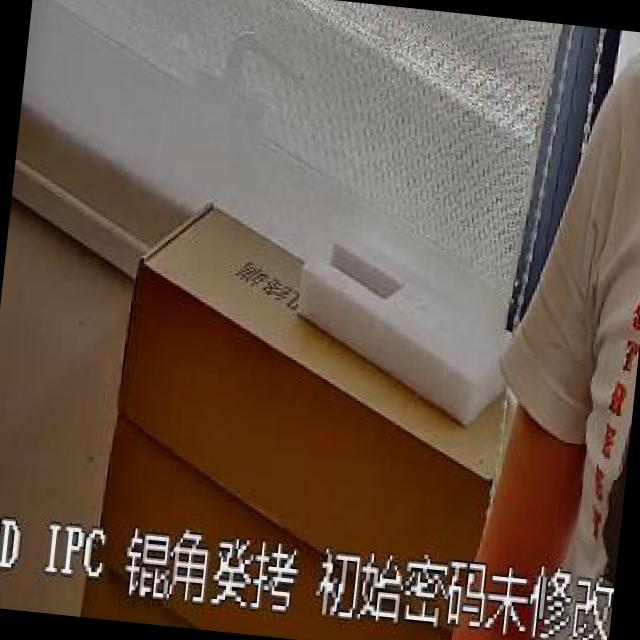Guns: (561, 50, 640, 640)
